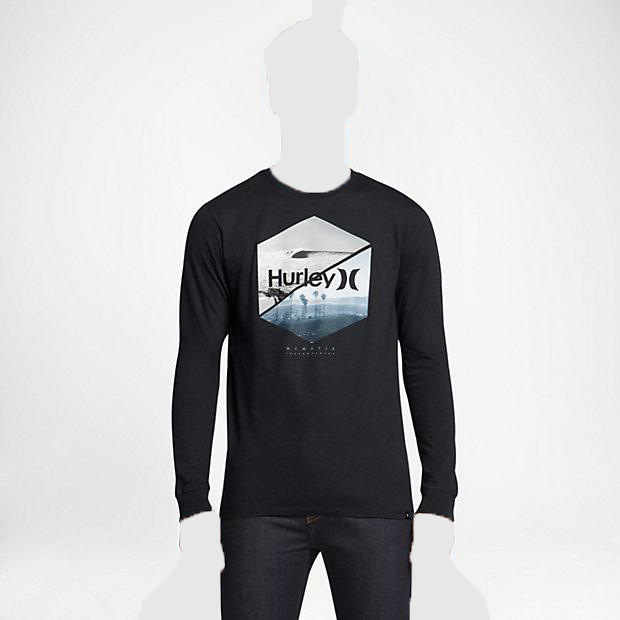teeshirt: (166, 167, 466, 529)
